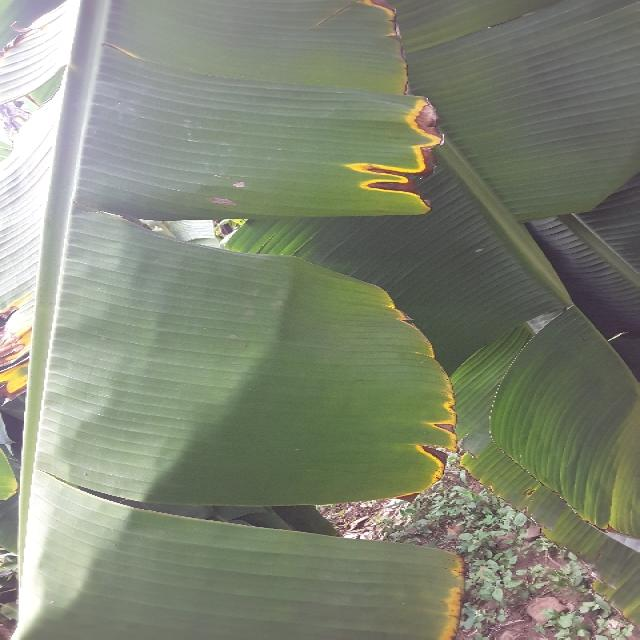Cordana: (214, 223, 486, 516), (180, 0, 454, 271), (497, 491, 640, 640), (351, 527, 485, 640), (498, 445, 630, 547), (0, 269, 55, 451), (0, 0, 78, 80)
